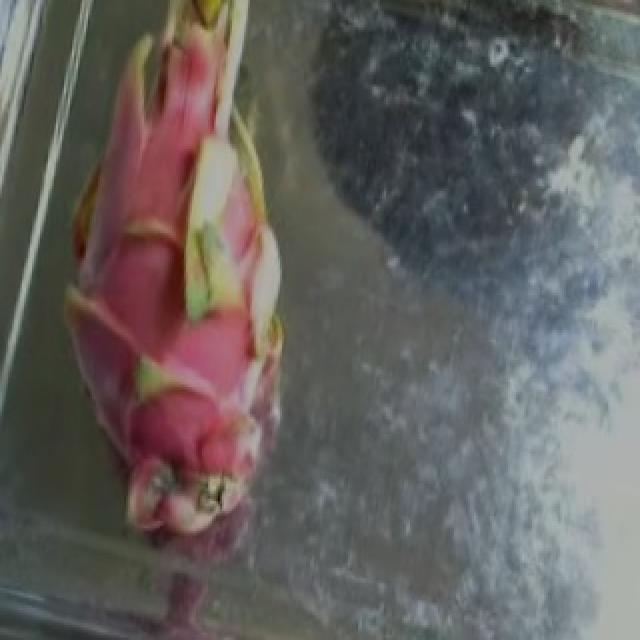fruit: (0, 2, 356, 412)
